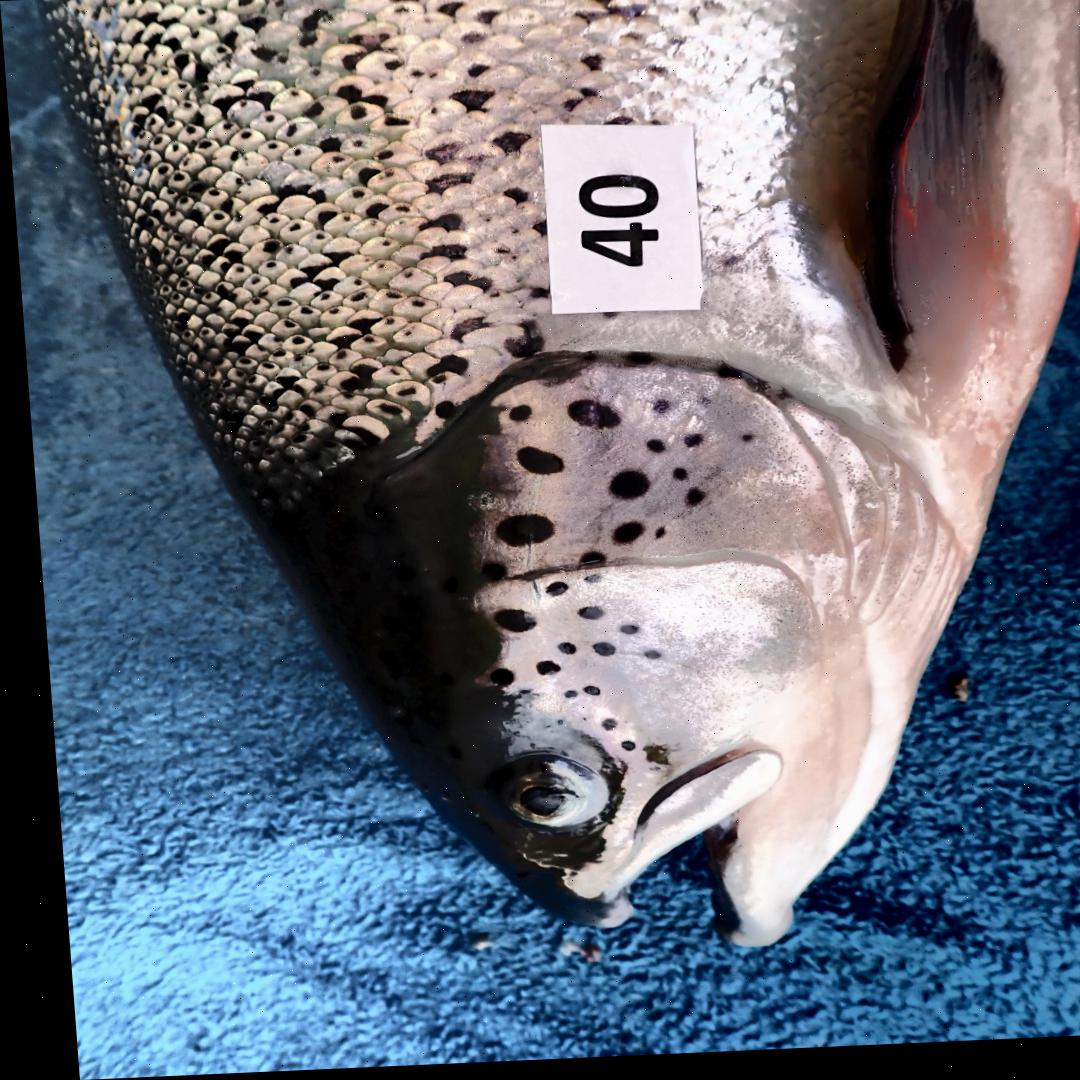spot: (486, 517, 545, 551), (561, 404, 612, 434), (508, 450, 556, 478), (601, 474, 642, 503), (483, 612, 527, 637), (604, 527, 636, 550), (477, 670, 504, 690), (471, 565, 498, 585), (618, 357, 649, 371), (677, 492, 698, 512), (503, 408, 526, 426), (711, 370, 737, 385), (526, 664, 550, 680), (536, 585, 560, 600), (567, 610, 594, 623), (570, 555, 596, 568), (581, 647, 605, 660), (677, 439, 698, 453), (646, 403, 664, 419), (639, 443, 657, 458), (588, 723, 606, 736), (609, 628, 630, 639), (549, 646, 566, 659), (572, 689, 590, 700), (551, 692, 569, 703), (634, 654, 652, 665), (664, 473, 679, 486), (645, 531, 659, 544), (610, 744, 625, 756), (732, 438, 747, 449), (575, 579, 591, 587)
